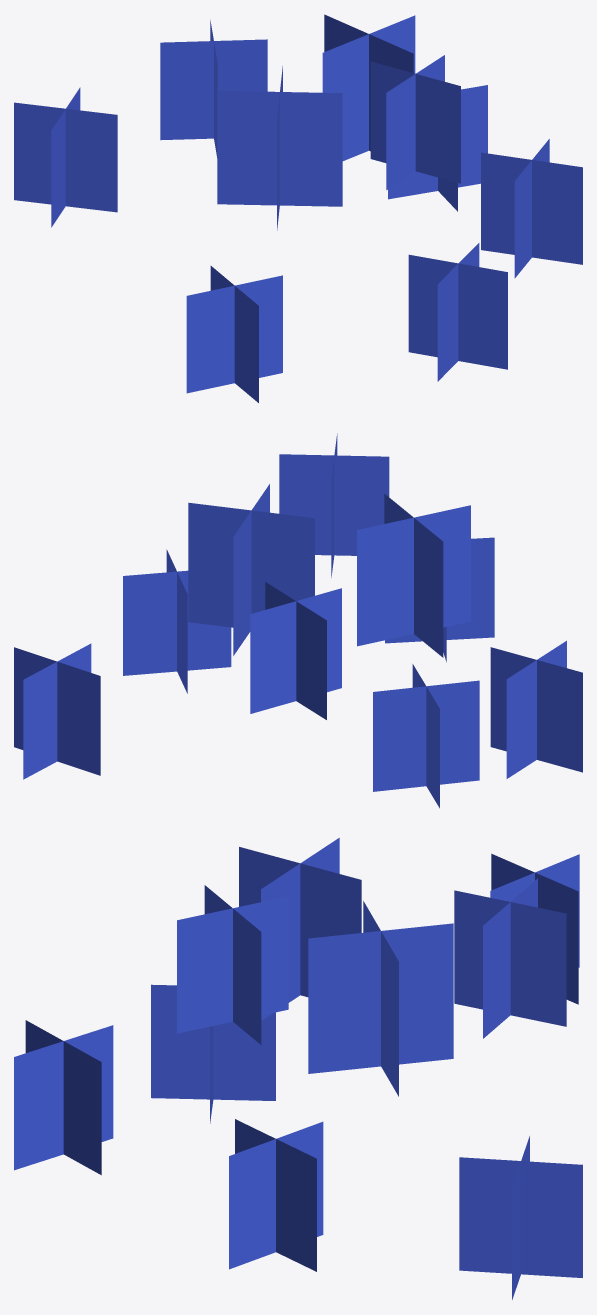
Rendered from Sweet Woodruff.fbx.
The picture shows the model from 3 angles, top to bottom: view 1: azimuth 30°, elevation 25°; view 2: azimuth 150°, elevation 25°; view 3: azimuth 270°, elevation 25°; orthographic projection. The views are drawn at different scales.
Visible parts, largest first — view 1: Sweet Woodruff; view 2: Sweet Woodruff; view 3: Sweet Woodruff.
Boxes of the visible parts, x1,y1,x2,y2 form: Sweet Woodruff: (14, 14, 582, 402); Sweet Woodruff: (14, 433, 582, 808); Sweet Woodruff: (14, 837, 582, 1299).
Size of the model in its own units: 0.2877 by 0.1666 by 0.3023.
